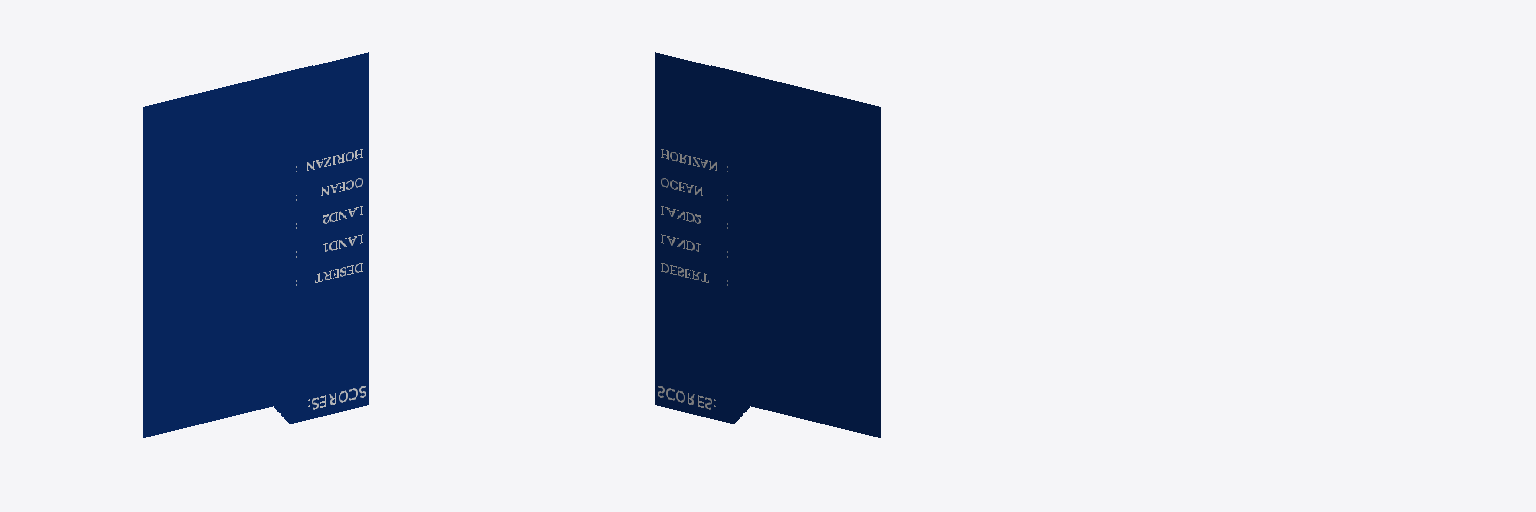
3 renders of one model, left to right at view 1: azimuth 30°, elevation 25°; view 2: azimuth 150°, elevation 25°; view 3: azimuth 270°, elevation 25°, orthographic.
Bounding box in the file's own units: 2 × 2.96 × 0.
1 materials, 1 textured.